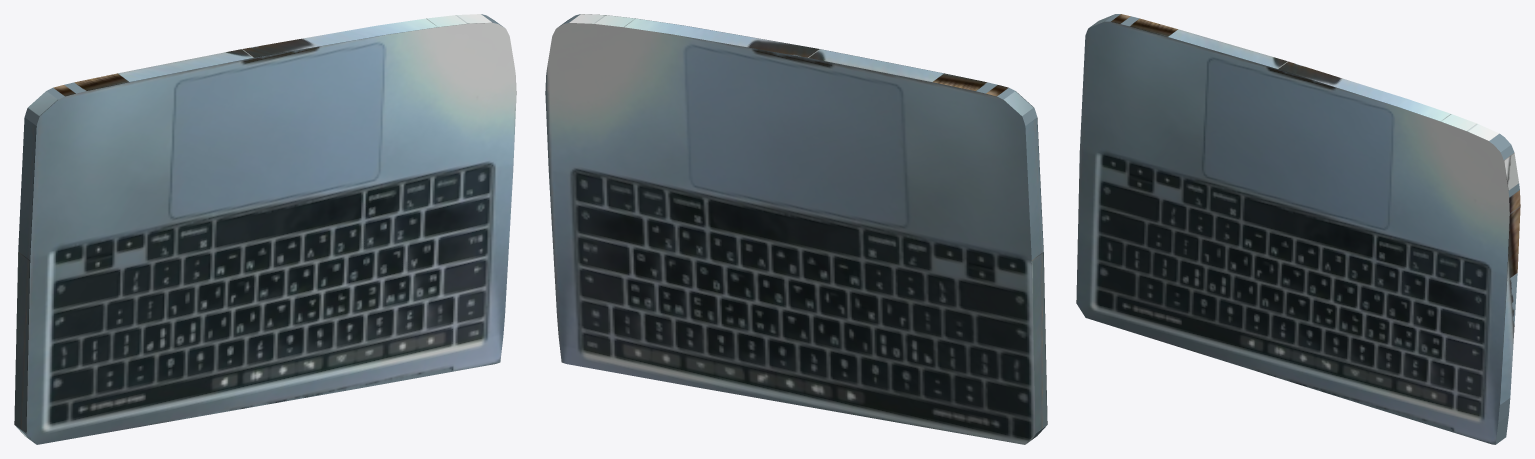
Rendered from base_tex.obj.
The picture shows the model from 3 angles, left to right: view 1: azimuth 30°, elevation 25°; view 2: azimuth 150°, elevation 25°; view 3: azimuth 330°, elevation 25°; orthographic projection. The views are drawn at different scales.
Bounding box in the file's own units: 0.3199 × 0.2325 × 0.0136.
1 material, 1 textured.
